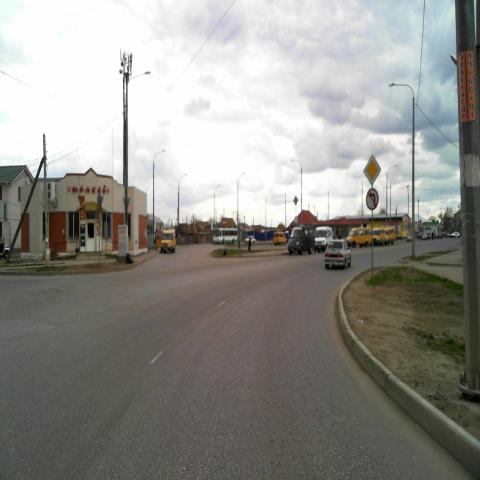3_18_2: (366, 188, 378, 209)
